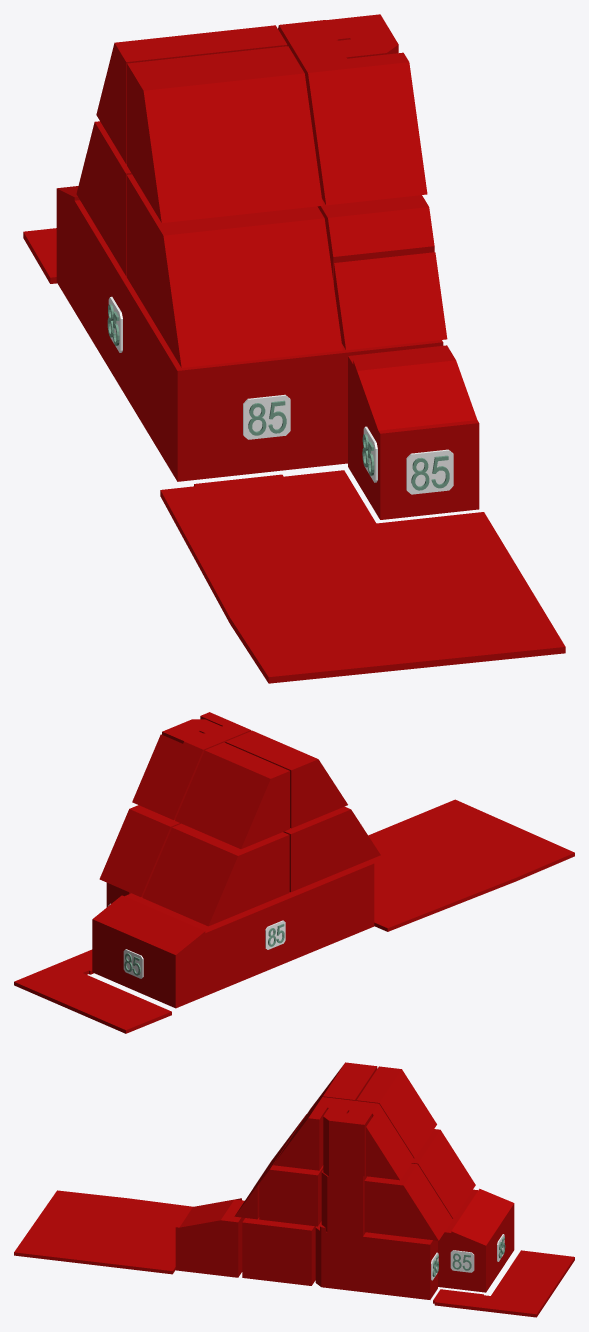
3 views of the same model, one above another, from view 1: azimuth 30°, elevation 25°; view 2: azimuth 150°, elevation 25°; view 3: azimuth 270°, elevation 25° (orthographic). The views are drawn at different scales.
Visible parts, largest first — view 1: g_17, g_12, g_7, g_1, g_0, g_14, g_2, g_16, g_6, g_13, g_8, g_15 (+3 smaller); view 2: g_2, g_17, g_8, g_13, g_18, g_7, g_14, g_12, g_1, g_11, g_15; view 3: g_17, g_2, g_14, g_11, g_0, g_18, g_1, g_5, g_6, g_13, g_3, g_15 (+5 smaller).
Part boxes in pixels (<box>): g_17: <box>160,470,565,683</box>; g_12: <box>127,46,322,222</box>; g_7: <box>126,174,342,367</box>; g_1: <box>141,310,443,481</box>; g_0: <box>348,345,479,519</box>; g_14: <box>278,20,427,205</box>; g_2: <box>56,186,146,421</box>; g_16: <box>334,252,447,350</box>; g_6: <box>317,195,434,284</box>; g_13: <box>96,25,287,164</box>; g_8: <box>76,121,131,275</box>; g_15: <box>326,14,398,58</box>; g_2: <box>92,885,314,1008</box>; g_17: <box>368,799,574,931</box>; g_8: <box>142,823,289,926</box>; g_13: <box>175,742,289,848</box>; g_18: <box>14,949,171,1033</box>; g_7: <box>283,806,380,892</box>; g_14: <box>132,712,251,819</box>; g_12: <box>225,730,347,828</box>; g_1: <box>309,860,374,950</box>; g_11: <box>99,805,180,896</box>; g_15: <box>162,719,221,743</box>; g_17: <box>14,1190,190,1274</box>; g_2: <box>438,1188,514,1292</box>; g_14: <box>273,1097,413,1180</box>; g_11: <box>364,1163,452,1240</box>; g_0: <box>175,1198,244,1277</box>; g_18: <box>433,1250,574,1317</box>; g_1: <box>242,1217,315,1285</box>; g_5: <box>365,1232,437,1299</box>; g_6: <box>259,1148,323,1226</box>; g_13: <box>356,1066,436,1158</box>; g_3: <box>315,1221,367,1292</box>; g_15: <box>323,1108,371,1176</box>.
Bounding box in the file's own units: 12.33 × 7.94 × 23.6.
